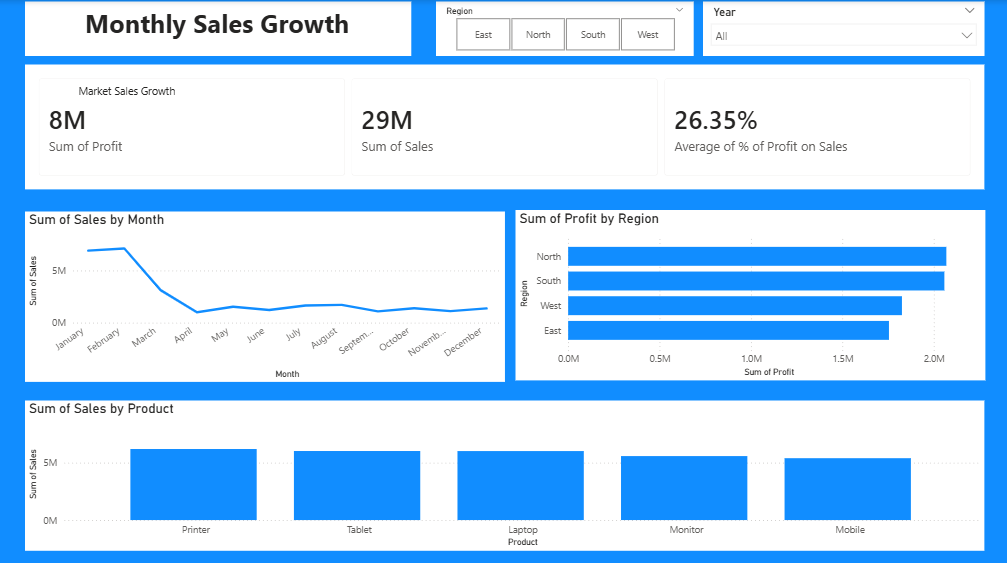

Layout of this report page (visuals, bound fields, positions):
{"tool":"powerbi","page":{"name":"Page 1","canvas":[1280,720],"ordinal":0},"visuals":[{"type":"cardVisual","fields":{"Data":["Sum(salesdb sales_data.Profit)","Sum(salesdb sales_data.Sales)","Avg(salesdb sales_data.% of Profit on Sales)"]},"box":[37.8,81.8,1208.7,157.4],"z":0},{"type":"lineChart","fields":{"Y":["Sum(salesdb sales_data.Sales)"],"Category":["salesdb sales_data.Order_Date.Variation.Date Hierarchy.Month"]},"box":[38.2,265.6,604.4,214.7],"z":1000},{"type":"barChart","fields":{"Category":["salesdb sales_data.Region"],"Y":["Sum(salesdb sales_data.Profit)"]},"box":[655.3,264,591.7,214.7],"z":2000},{"type":"columnChart","fields":{"Category":["salesdb sales_data.Product"],"Y":["Sum(salesdb sales_data.Sales)"]},"box":[38.2,504.2,1208.9,189.3],"z":3000},{"type":"slicer","fields":{"Values":["salesdb sales_data.Order_Date.Variation.Date Hierarchy.Year"]},"box":[892.3,1.6,354.7,68.4],"z":4000},{"type":"slicer","fields":{"Values":["salesdb sales_data.Region"]},"box":[555.1,1.6,324.5,68.4],"z":5000},{"type":"textbox","box":[100.2,100.2,299,33.4],"z":6000},{"type":"textbox","box":[38.2,1.6,486.7,68.4],"z":7000}]}

Visuals, with their boxes in screenshot pixels (x1, y1, x2, y2), scaled from the page's 1280x720 canvas onto the 1007x563 screenshot:
cardVisual - Sum(salesdb sales_data.Profit) x Sum(salesdb sales_data.Sales): [left=30, top=64, right=981, bottom=187]
lineChart - Sum(salesdb sales_data.Sales) x salesdb sales_data.Order_Date.Variation.Date Hierarchy.Month: [left=30, top=208, right=506, bottom=376]
barChart - salesdb sales_data.Region x Sum(salesdb sales_data.Profit): [left=516, top=206, right=981, bottom=374]
columnChart - salesdb sales_data.Product x Sum(salesdb sales_data.Sales): [left=30, top=394, right=981, bottom=542]
slicer - salesdb sales_data.Order_Date.Variation.Date Hierarchy.Year: [left=702, top=1, right=981, bottom=55]
slicer - salesdb sales_data.Region: [left=437, top=1, right=692, bottom=55]
textbox: [left=79, top=78, right=314, bottom=104]
textbox: [left=30, top=1, right=413, bottom=55]
